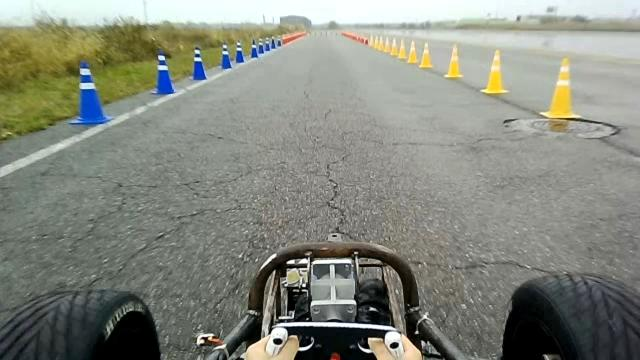blue cone: (68, 61, 114, 124), (150, 50, 175, 94), (191, 46, 207, 80), (220, 42, 232, 69), (235, 39, 245, 63), (250, 38, 259, 59), (264, 37, 271, 52)
yellow cone: (539, 57, 582, 119), (480, 49, 509, 94), (444, 44, 463, 78), (419, 41, 433, 69), (409, 37, 419, 65), (390, 34, 398, 61), (398, 39, 407, 59), (377, 36, 385, 51), (368, 34, 373, 48)
